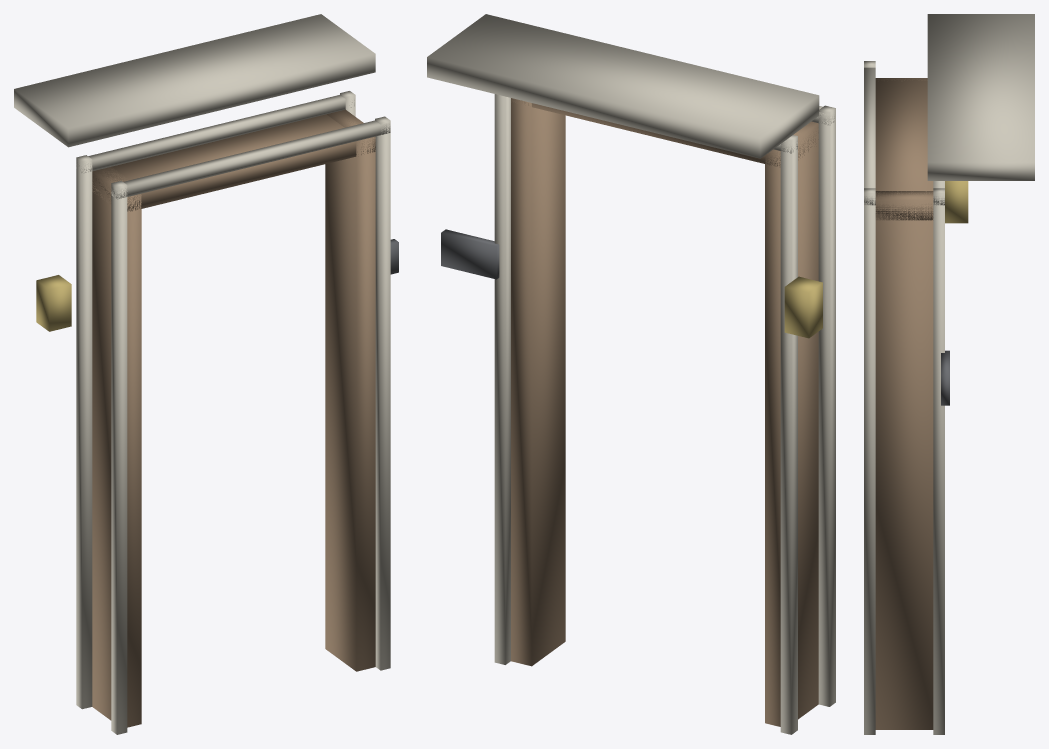
Rendered from doorway_motel_w96_h220_d24.glb.
The picture shows the model from 3 angles, left to right: view 1: azimuth 30°, elevation 25°; view 2: azimuth 150°, elevation 25°; view 3: azimuth 270°, elevation 25°; orthographic projection. The views are drawn at different scales.
Parts seen in each view (by area): view 1: world; view 2: world; view 3: world.
Boxes of the visible parts, x1=… form: world: x1=14, y1=14, x2=398, y2=734; world: x1=427, y1=14, x2=835, y2=734; world: x1=864, y1=14, x2=1034, y2=734.
Size of the model in its own units: 1.56 by 2.51 by 0.6682.
